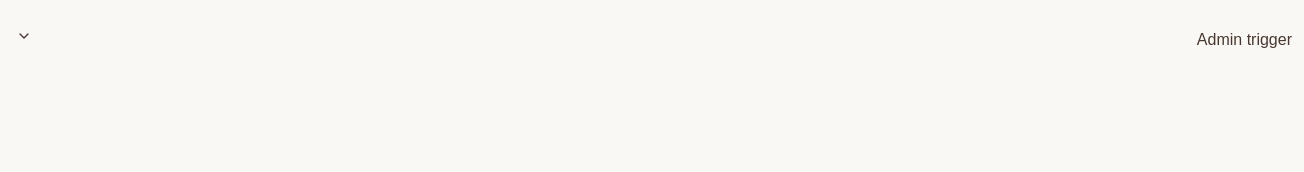
Test: accordions › opens an admin accordion item
Click the button "Admin trigger" at [1244, 40], box [12,12,1292,68]
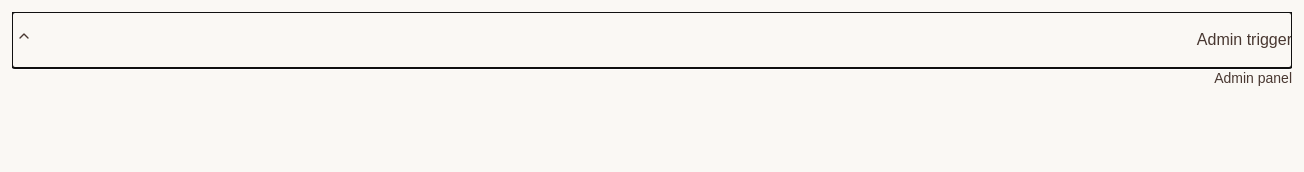
Check: the text "Admin panel" is shown, box [1214,70,1292,86]
